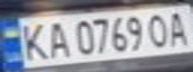0: (72, 17, 93, 56)
6: (109, 14, 130, 53)
7: (90, 16, 112, 54)
9: (124, 12, 148, 52)
A: (42, 18, 72, 60), (163, 8, 193, 47)
K: (15, 19, 51, 62)
O: (145, 10, 172, 48)
